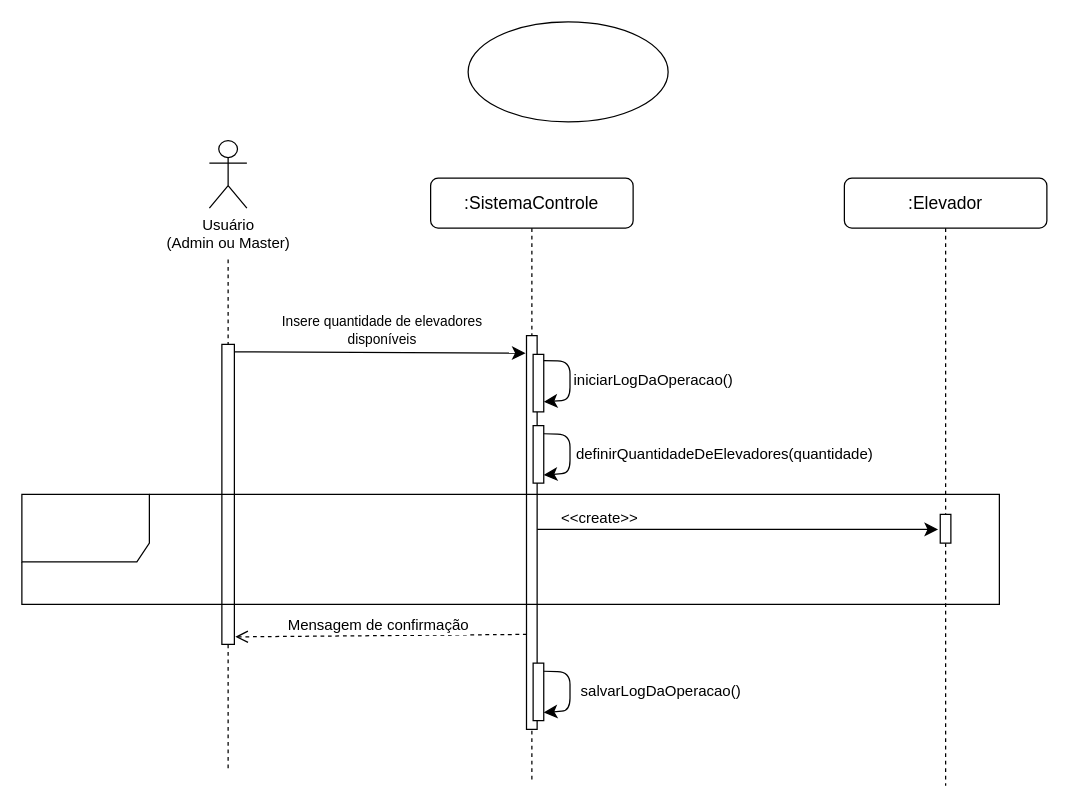
The diagram is 1069 pixels wide and 808 high, and some of its shapes have lost their labels. Here are the shapes that lost their labels. From the top down, the centre of each, then its label:
At (x=567, y=71): "UC-04 Configurar Quantidade de Elevadores".
At (x=510, y=548): "loop n (quantidade de elevadores)".
